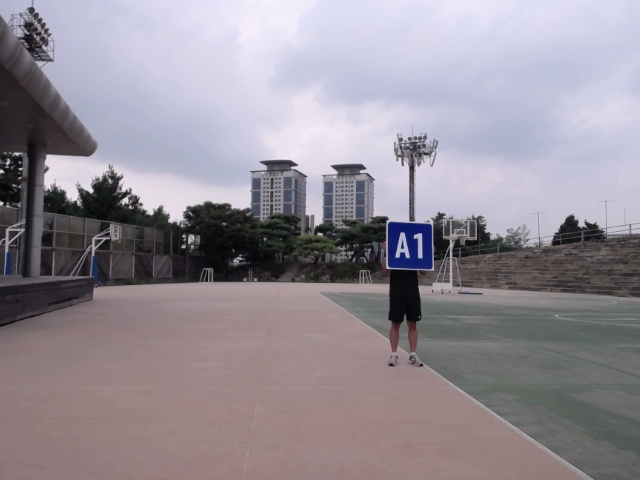delivery_a1: (386, 221, 433, 270)
